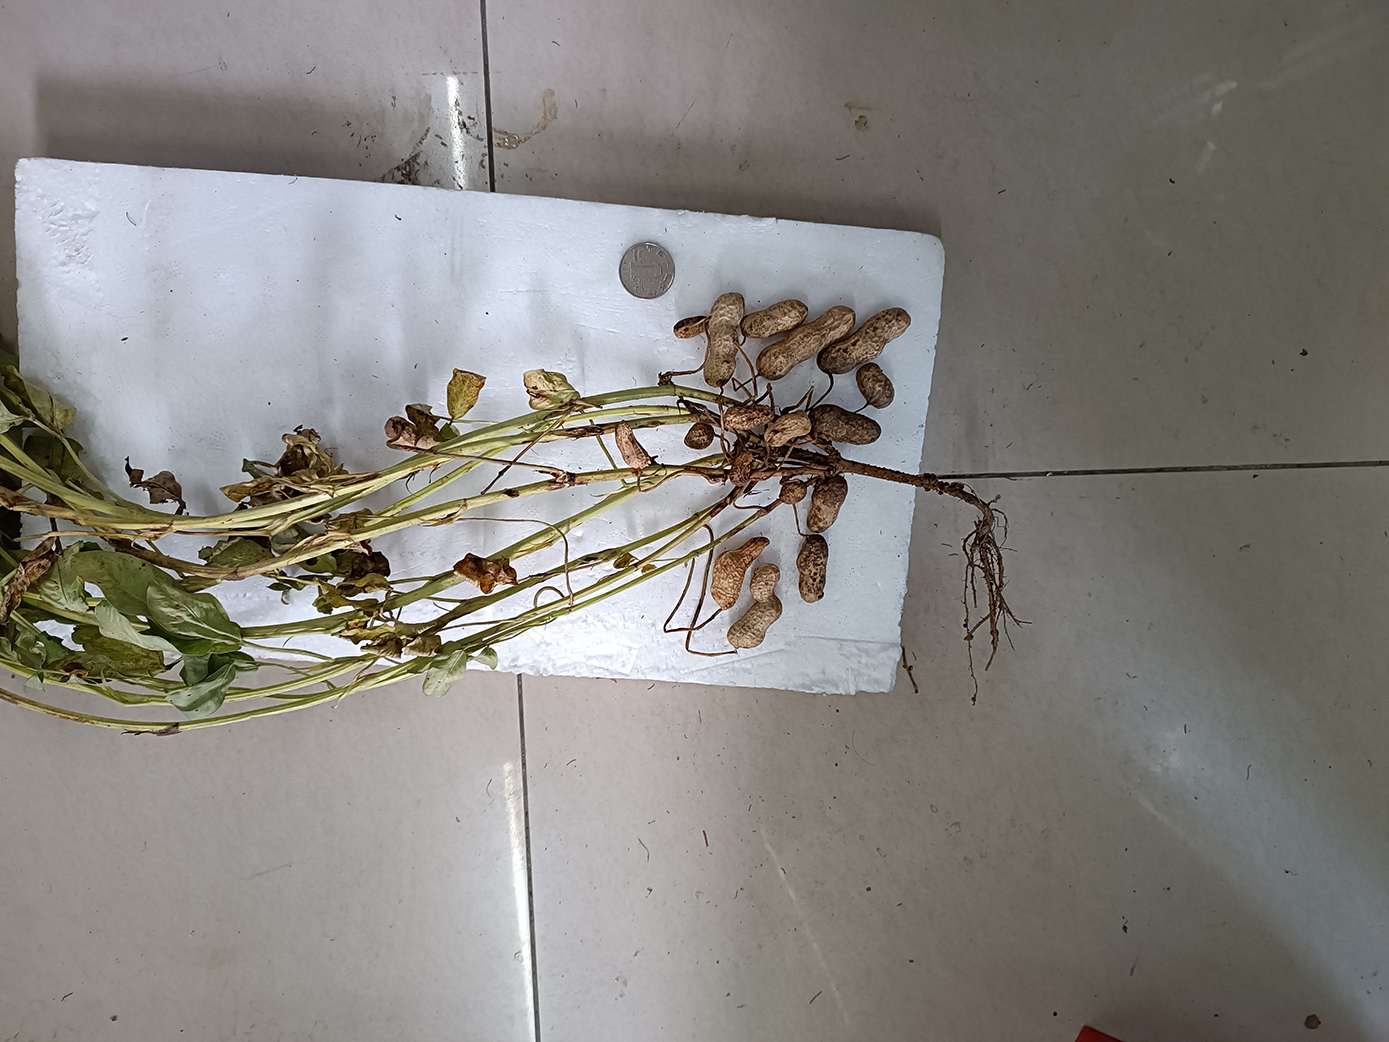h: (756, 306, 856, 382), (817, 306, 910, 375), (726, 563, 784, 652), (711, 536, 772, 609), (704, 293, 742, 385), (742, 300, 808, 339), (797, 535, 827, 602), (615, 420, 653, 472), (856, 364, 896, 409), (764, 412, 810, 447), (724, 406, 773, 428), (674, 314, 707, 338), (779, 478, 807, 506)
l: (809, 404, 881, 447), (682, 422, 714, 449)
